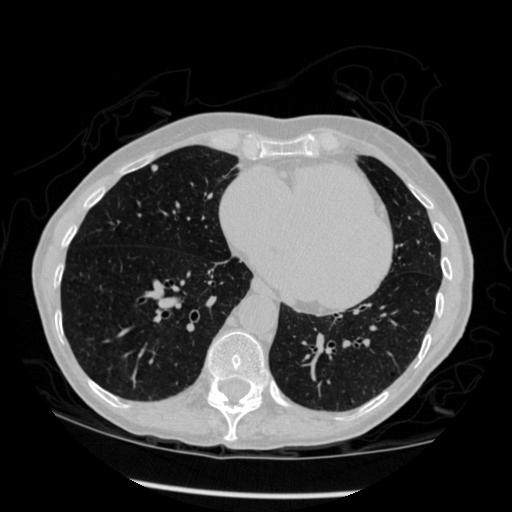nodule: (149, 162, 161, 174)
